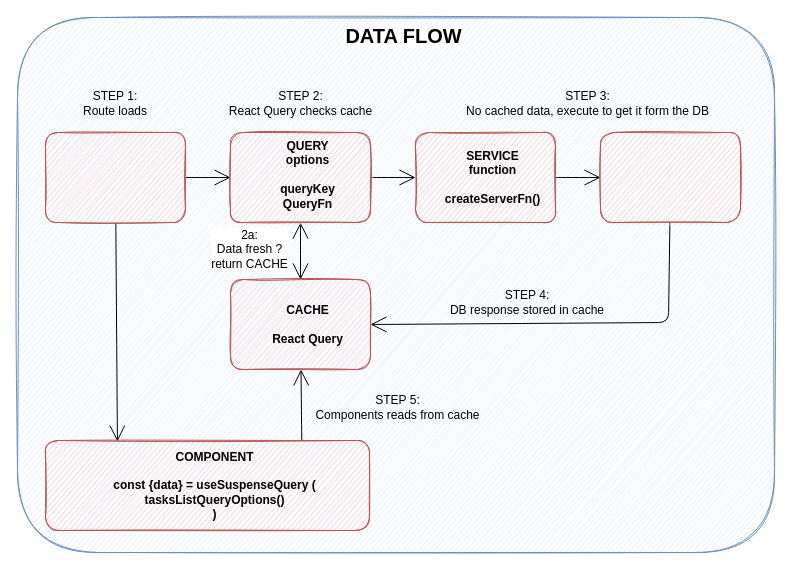
Image size: 792x570. Some labels were removed from this diagram. Each missing label, with the centre of its shape:
"DB Drizzle SELECT INSERT" belongs at (x=670, y=177).
"ROUTE loader ensureQueryData()" belongs at (x=115, y=177).
